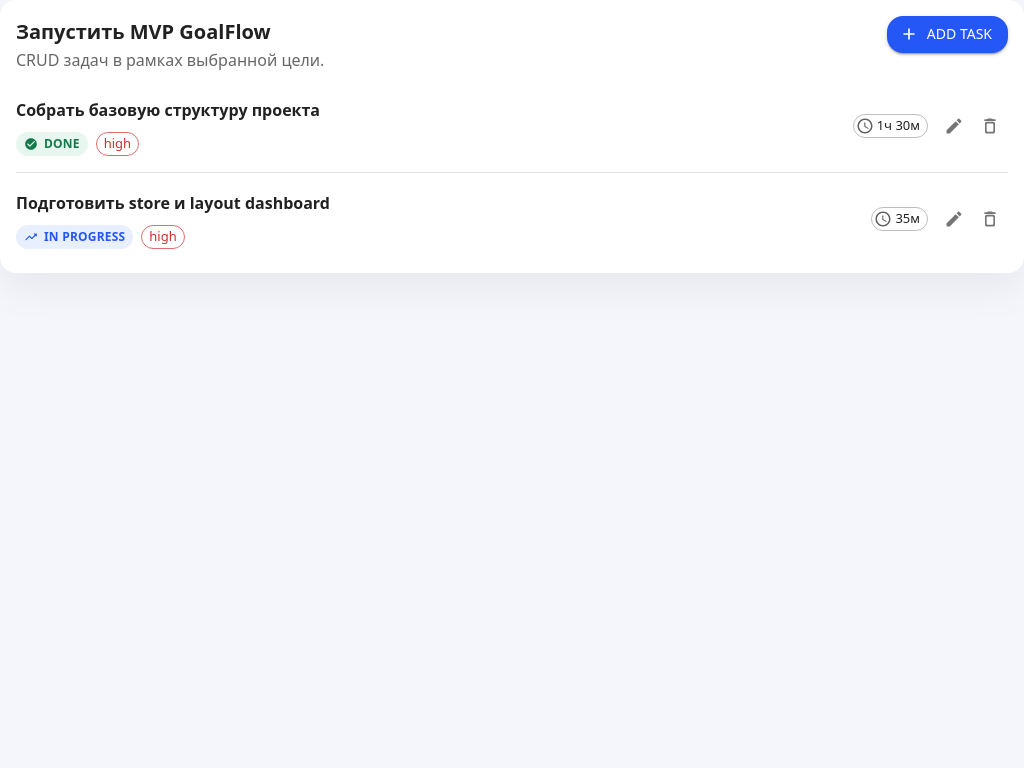
Scenario: ManageTaskList › creates a new task for the active goal
Click the button "Add task". click: click(947, 34)
box: [887, 16, 1008, 52]
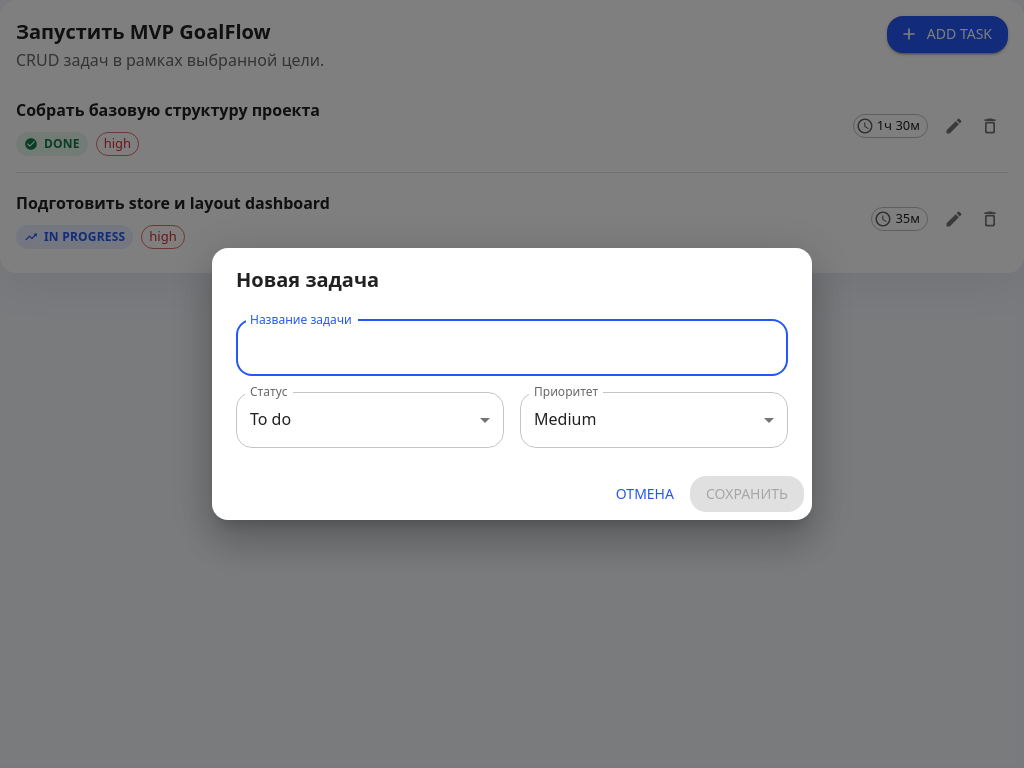
Type "Новая задача" into the field labelled "Название задачи". click: (512, 348)
box: [236, 320, 788, 376]
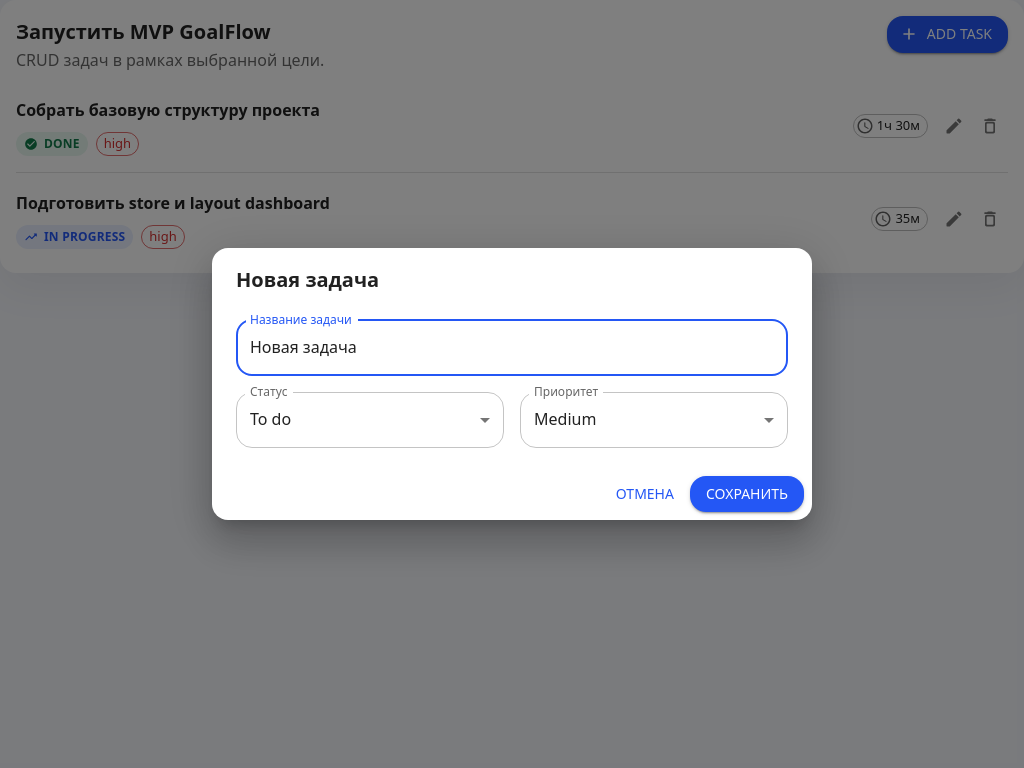
Click the button "Сохранить". click: click(747, 494)
box: [690, 476, 804, 512]
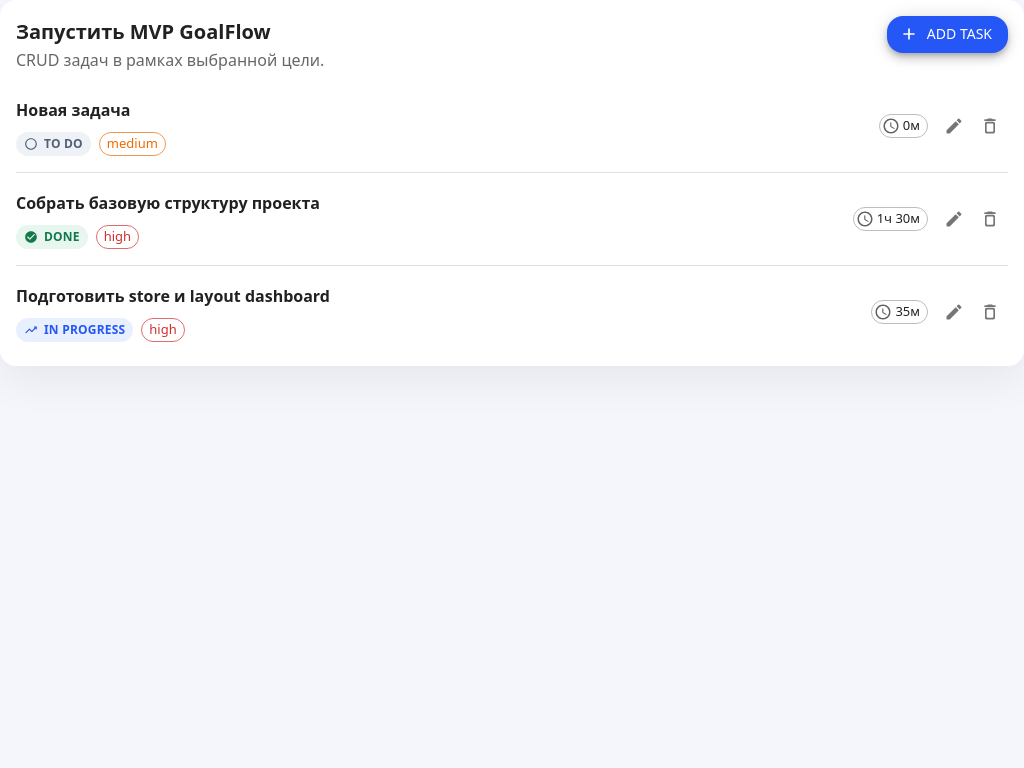
Result: the heading "Новая задача" is shown at [16, 99, 130, 121]
Result: the label labelled "Название задачи" is gone
